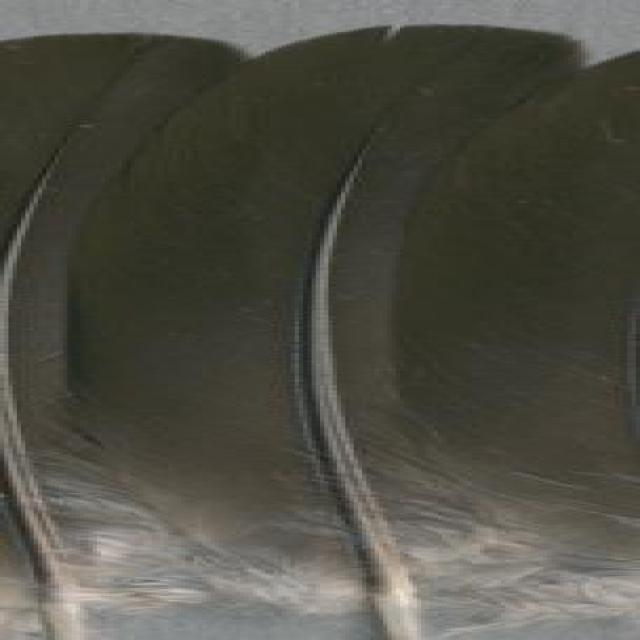feather: (9, 29, 589, 640)
